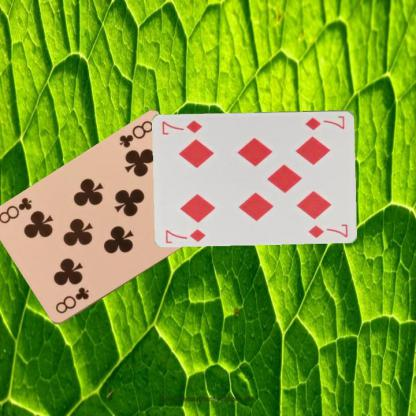7d: (163, 226, 207, 244), (303, 113, 346, 131)
8c: (116, 118, 155, 150), (53, 284, 90, 316)
